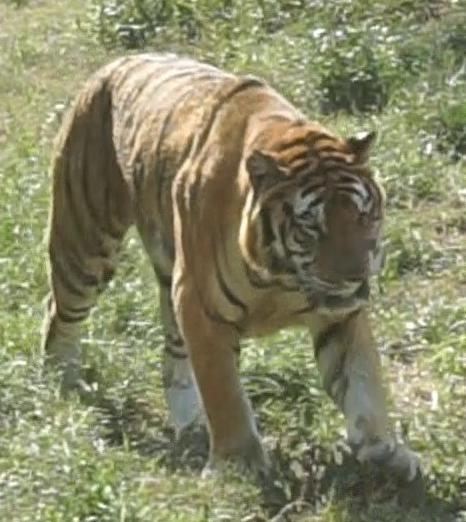tiger: (44, 53, 415, 476)
